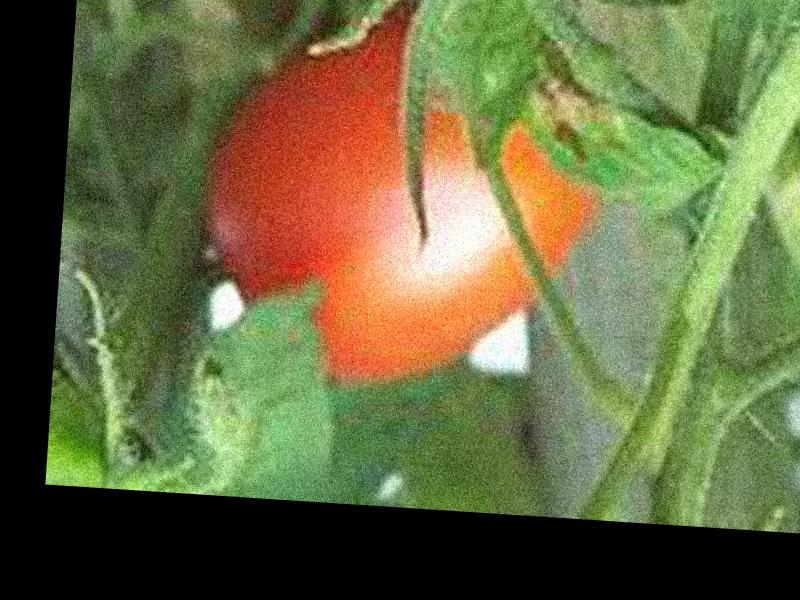Tomato: (198, 8, 601, 399)
